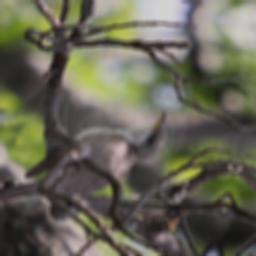Cuckoo: (0, 78, 179, 235)
